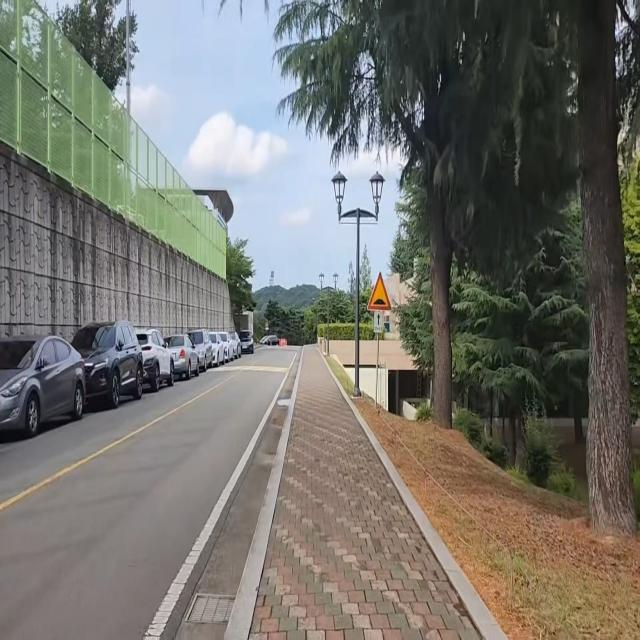road: (0, 345, 302, 640)
sidewalk: (231, 347, 509, 640)
